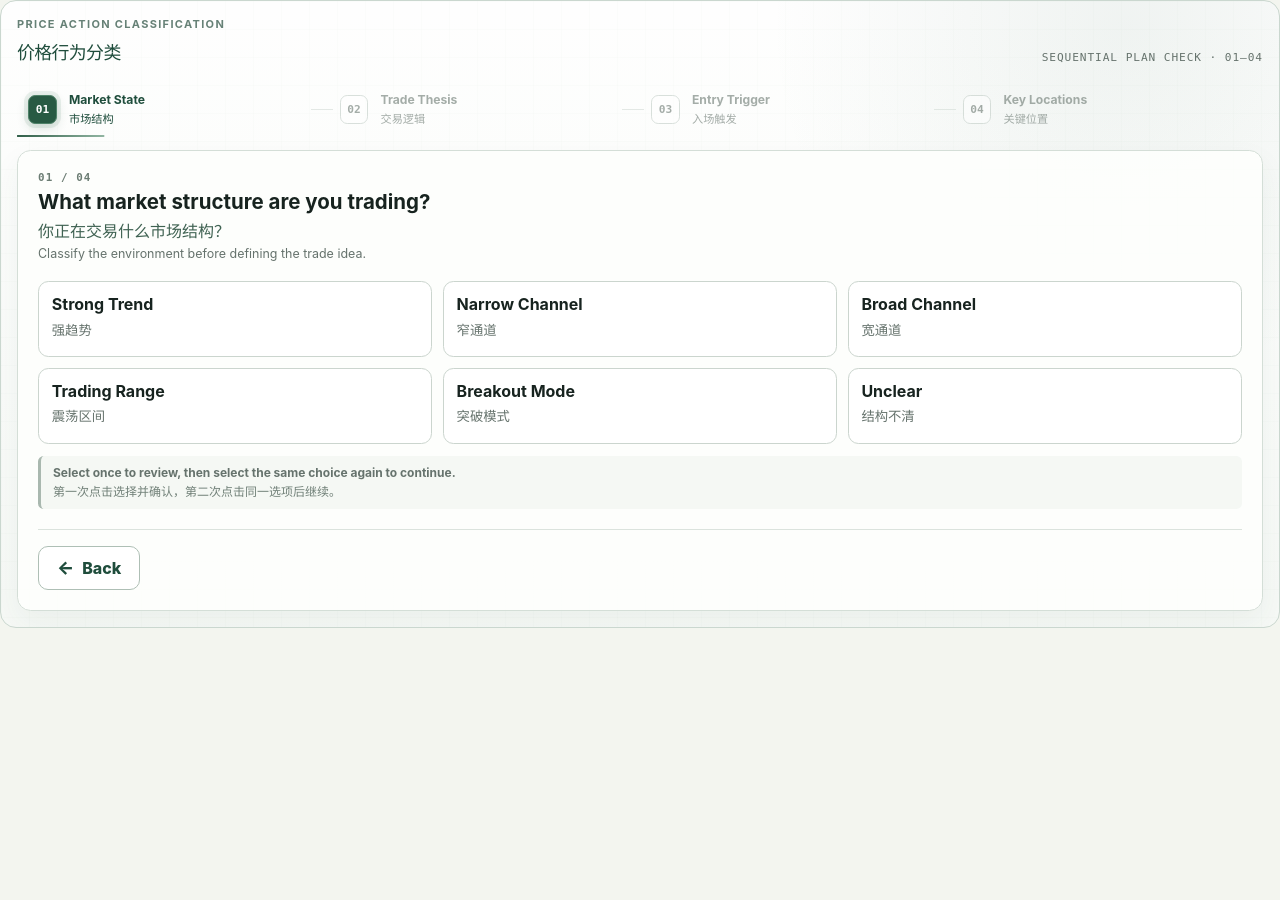
Test: PriceActionClassificationFlow interactions › arms on the first click and advances only after the second click plus 350ms
This screenshot has width=1280, height=900.
Click the button "Narrow Channel 窄通道" at (520, 304), box [443, 281, 837, 357]
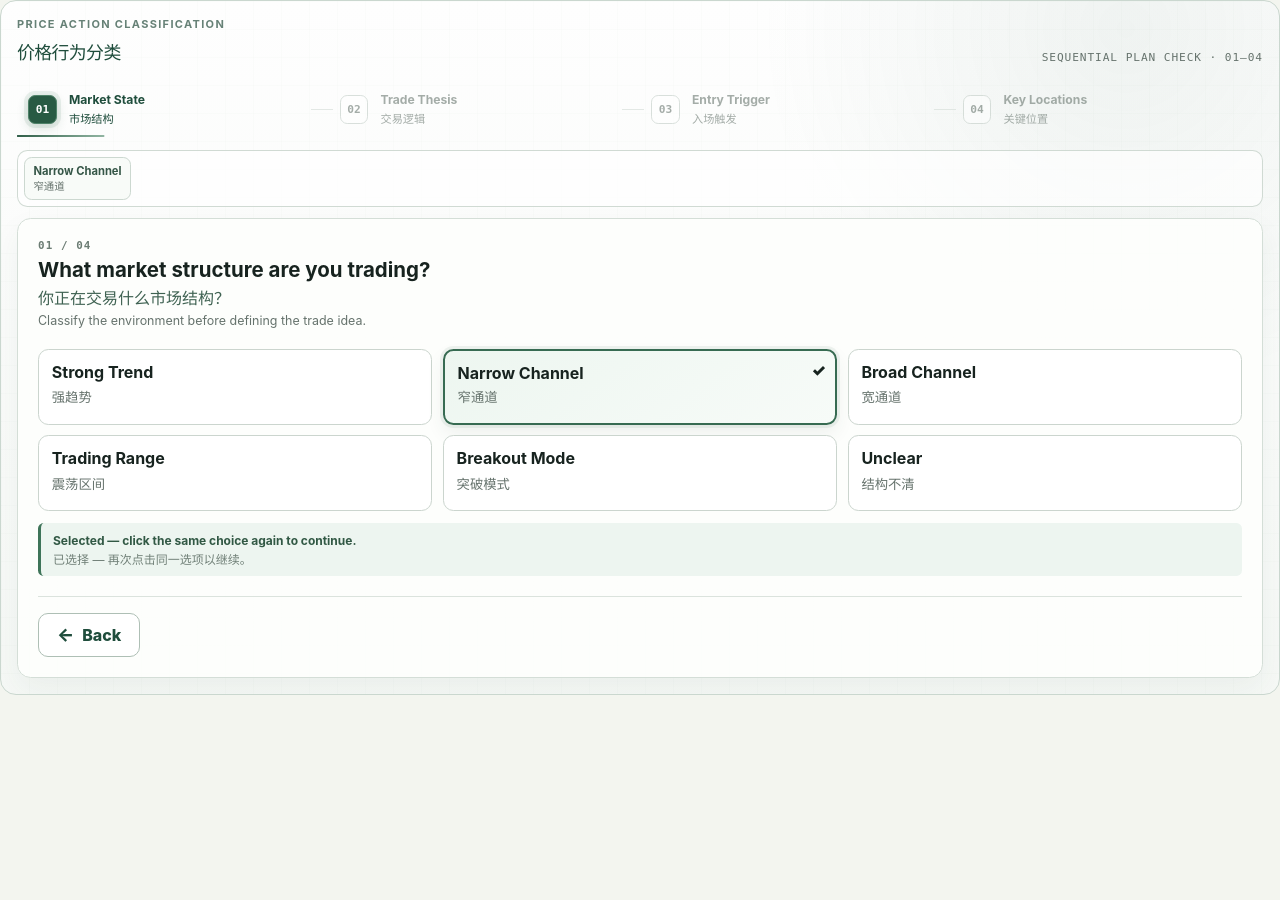
Check: the text "What is the core idea of this trade?" is not shown
Check: the text "Selected — click the same choice again to continue." is shown, box [53, 533, 356, 548]
Click the button "✓ Narrow Channel 窄通道" at (521, 373), box [443, 349, 837, 425]
Wait 350 ms
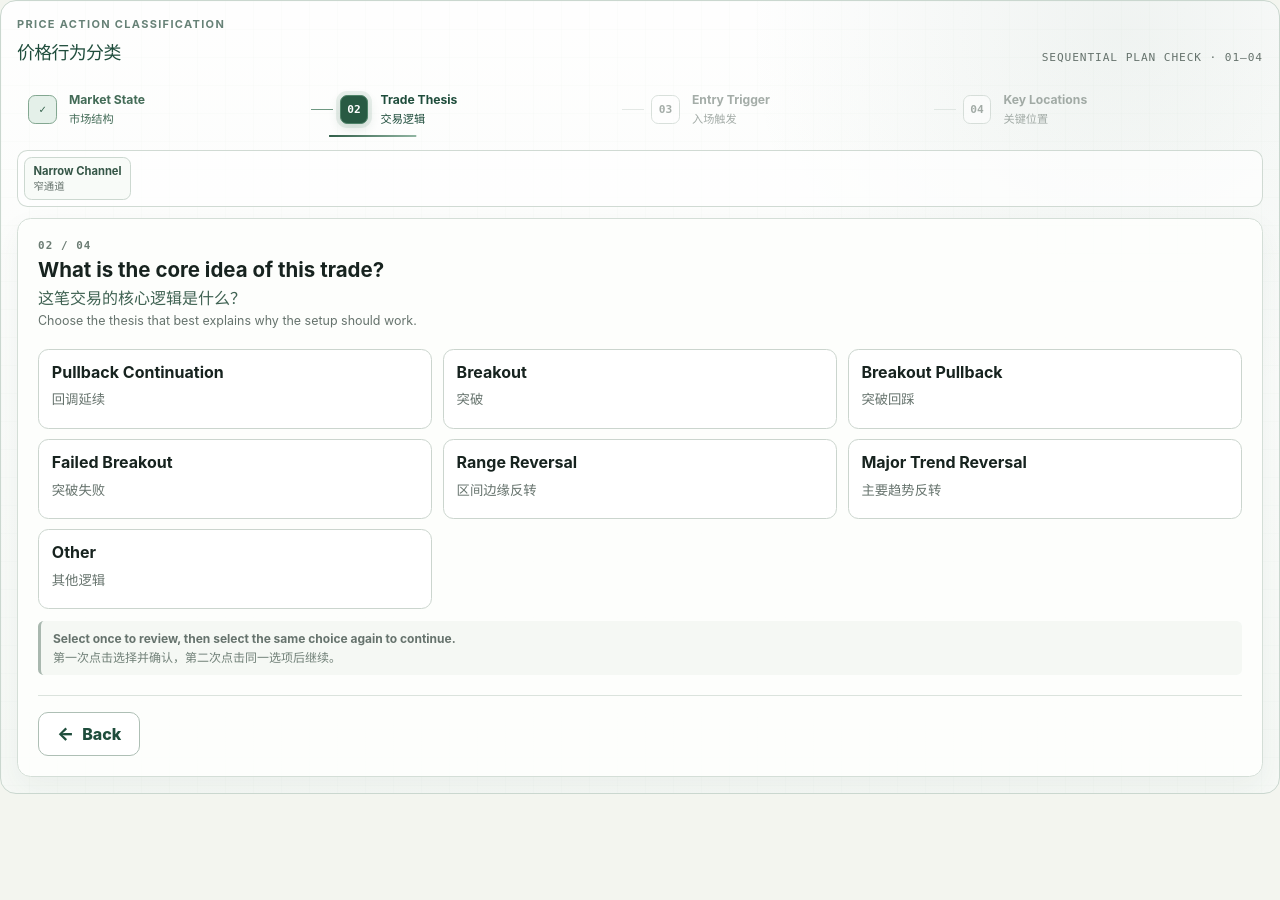
Check: the heading "What is the core idea of this trade?" is shown, box [38, 257, 384, 282]
